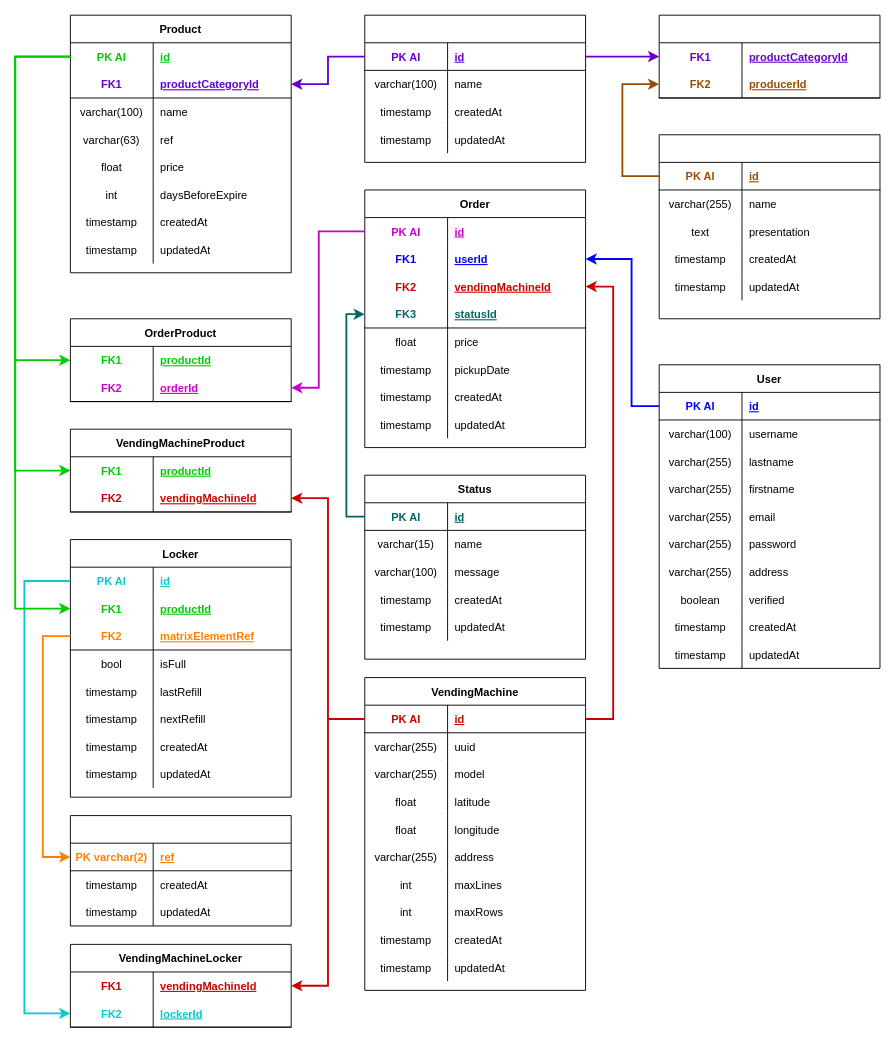
Some shapes in this 895 by 1042 pixel diagram are drawn without their labels. Each missing label, with the box of its shape:
MatrixElement: (69, 815, 291, 926)
Producer: (658, 134, 880, 319)
ProducerProductCategory: (658, 14, 880, 98)
ProductCategory: (364, 14, 586, 162)
